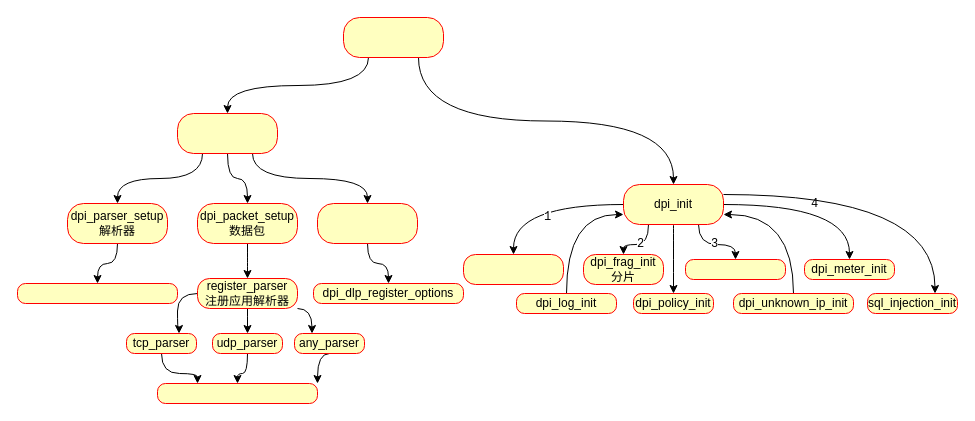
Some shapes in this 975 by 421 pixel diagram are drawn without their labels. The shapes that lost their labels are listed below. From the top down, each one's centre as x and y in pixels, then its label:
At (x=393, y=37): "main".
At (x=227, y=133): "dpi_setup".
At (x=367, y=223): "dpi_dlp_init 数据防泄露".
At (x=513, y=269): "timer_wheel_init 时间轮".
At (x=735, y=269): "dpi_session_init".
At (x=97, y=293): "初始化 tcp_bad_flag_mask".
At (x=237, y=393): "app protocol(redis,dns,grpc)".
